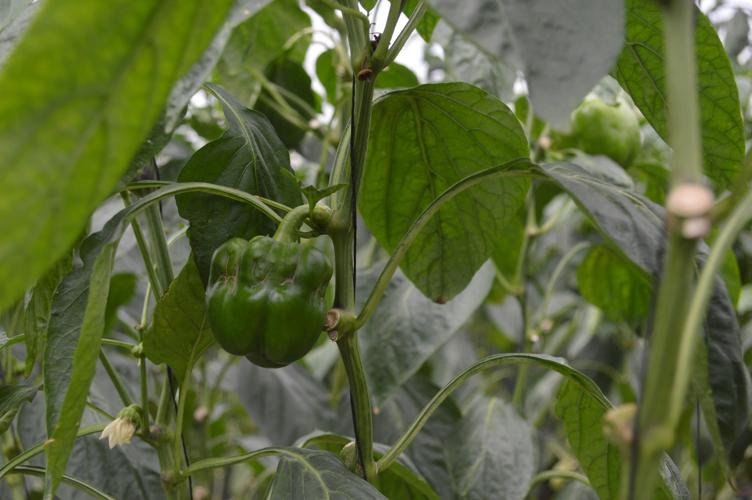BellPepper: (206, 235, 337, 366)
